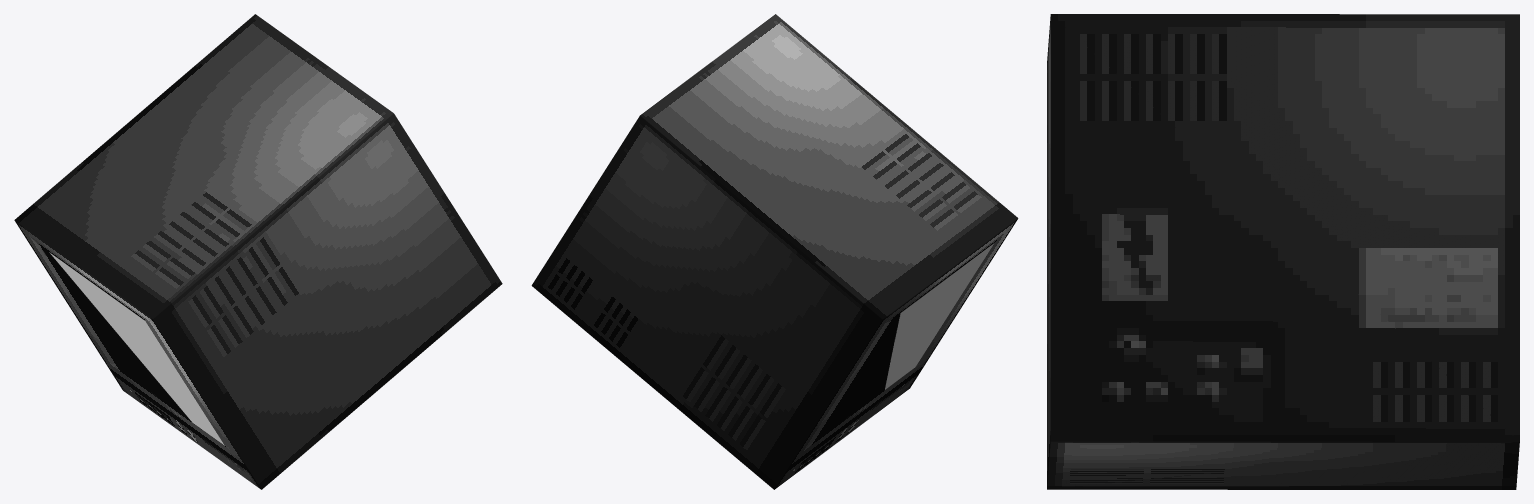
File: primary_181.glb
3 renders of one model, left to right at view 1: azimuth 30°, elevation 25°; view 2: azimuth 150°, elevation 25°; view 3: azimuth 270°, elevation 25°, orthographic. The views are drawn at different scales.
Parts seen in each view (by area): view 1: Object; view 2: Object; view 3: Object.
Part boxes in pixels (x1=…): Object: x1=14, y1=14, x2=502, y2=489; Object: x1=531, y1=14, x2=1018, y2=489; Object: x1=1047, y1=14, x2=1519, y2=489.
Bounding box in the file's own units: 0.909 × 0.8488 × 0.6182.
Materials: 7 (7 with a texture image).
